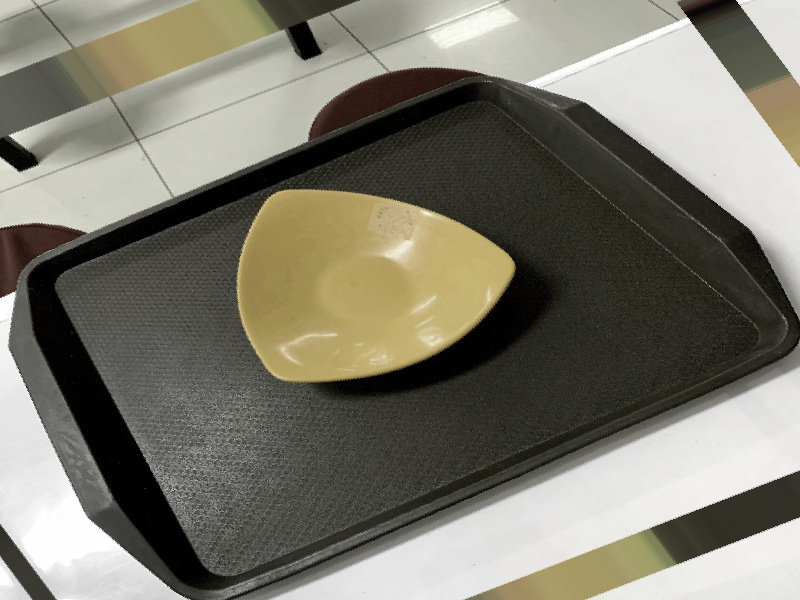dish11: (160, 131, 561, 414)
